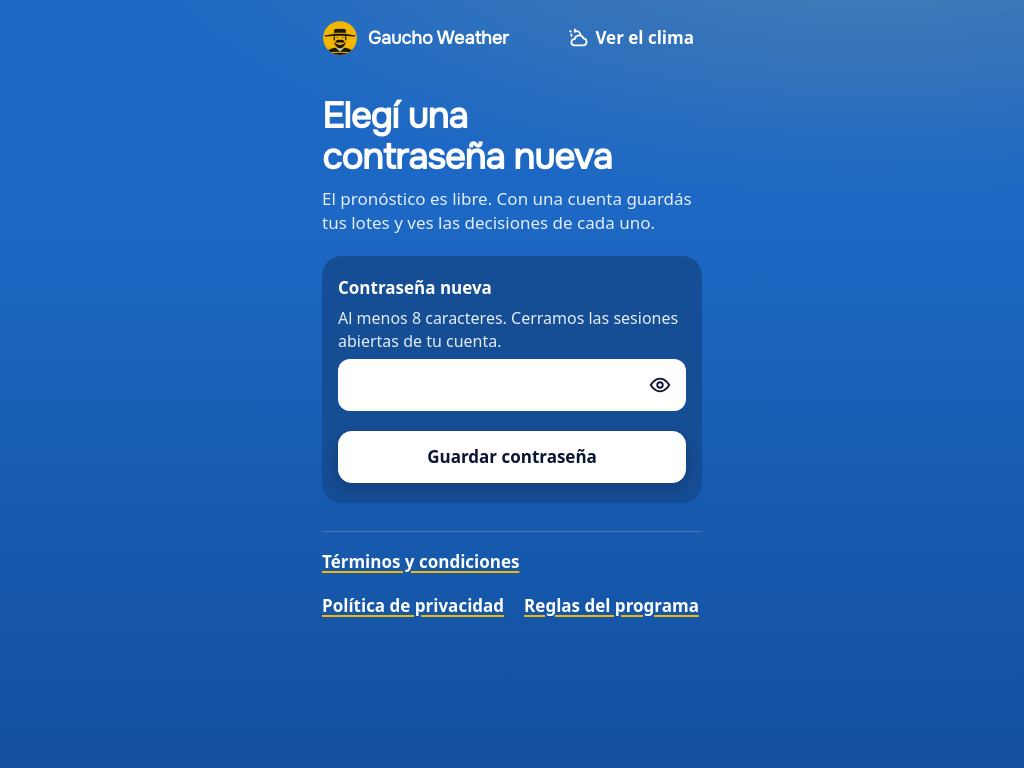
Test: Recuperar la contraseña (S5) › sets a new password from the link and sends you to log in
The width and height of the screenshot is (1024, 768).
Type "lluvia-de-noviembre" into the password field labelled "Contraseña nueva" at coordinates (512, 385), box x1=338 y1=359 x2=686 y2=411
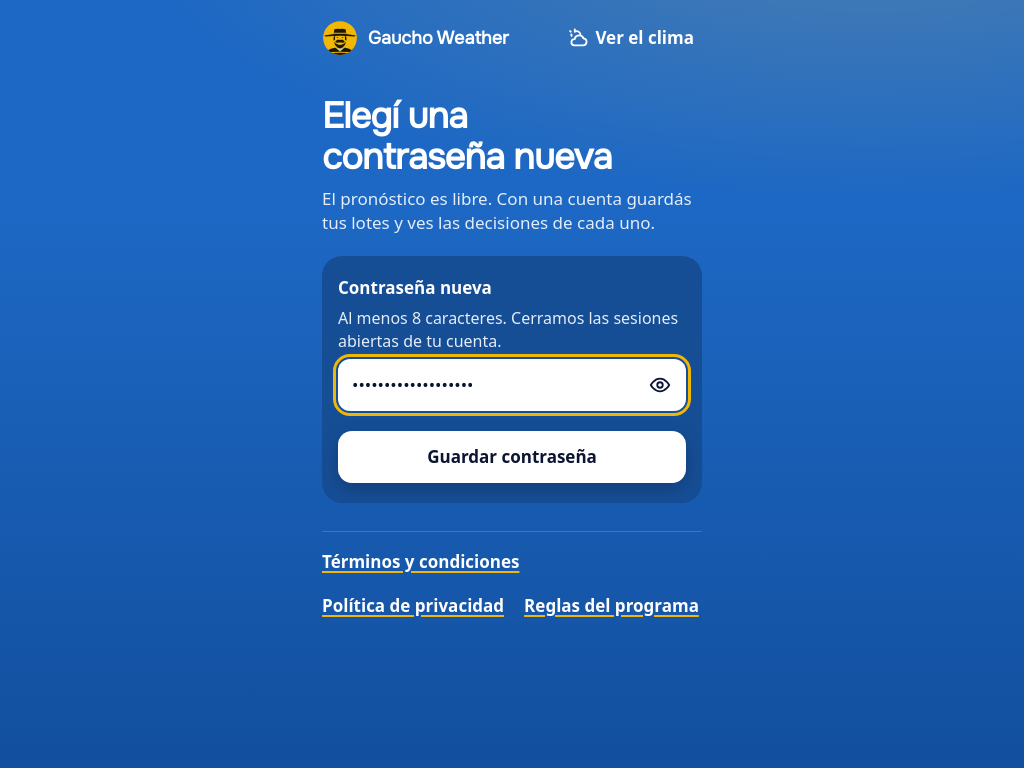
Click the button "Guardar contraseña" at coordinates (512, 457), box x1=338 y1=431 x2=686 y2=483
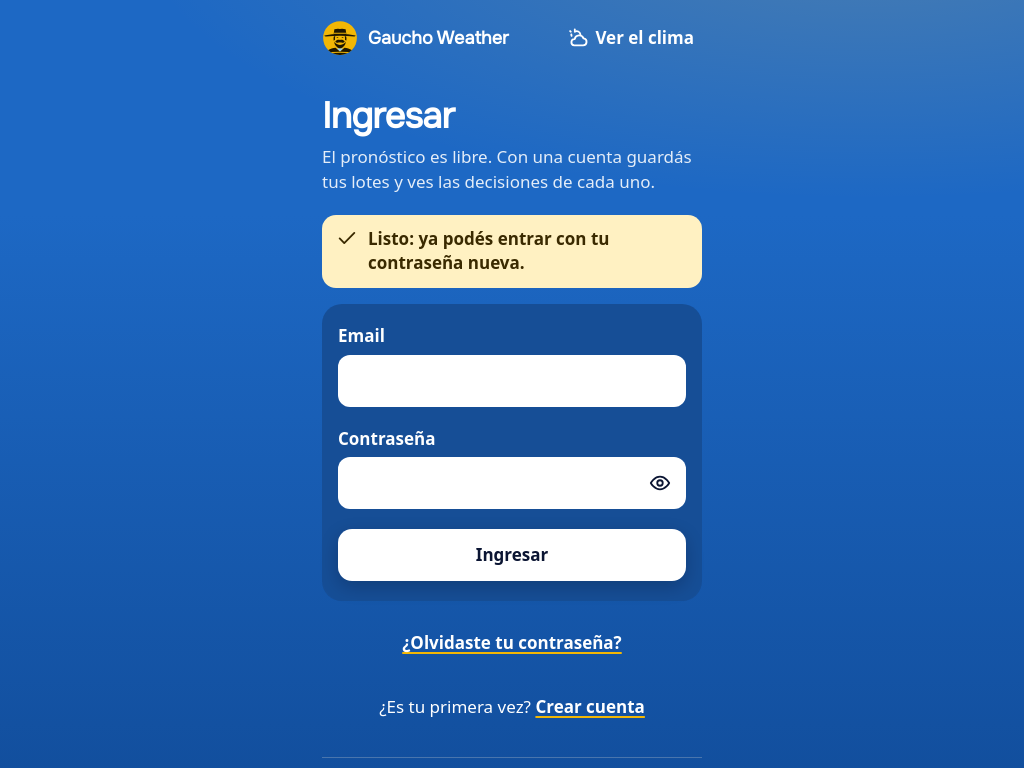
Expected: the text "Listo: ya podés entrar con tu contraseña nueva." is shown, x1=368 y1=227 x2=610 y2=274
Expected: the heading "Ingresar" is shown, x1=322 y1=93 x2=454 y2=139
